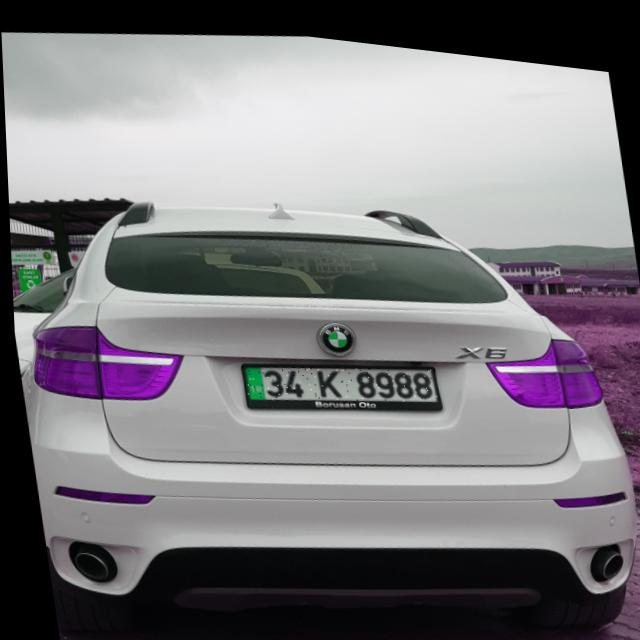license_plate: (240, 341, 437, 412)
